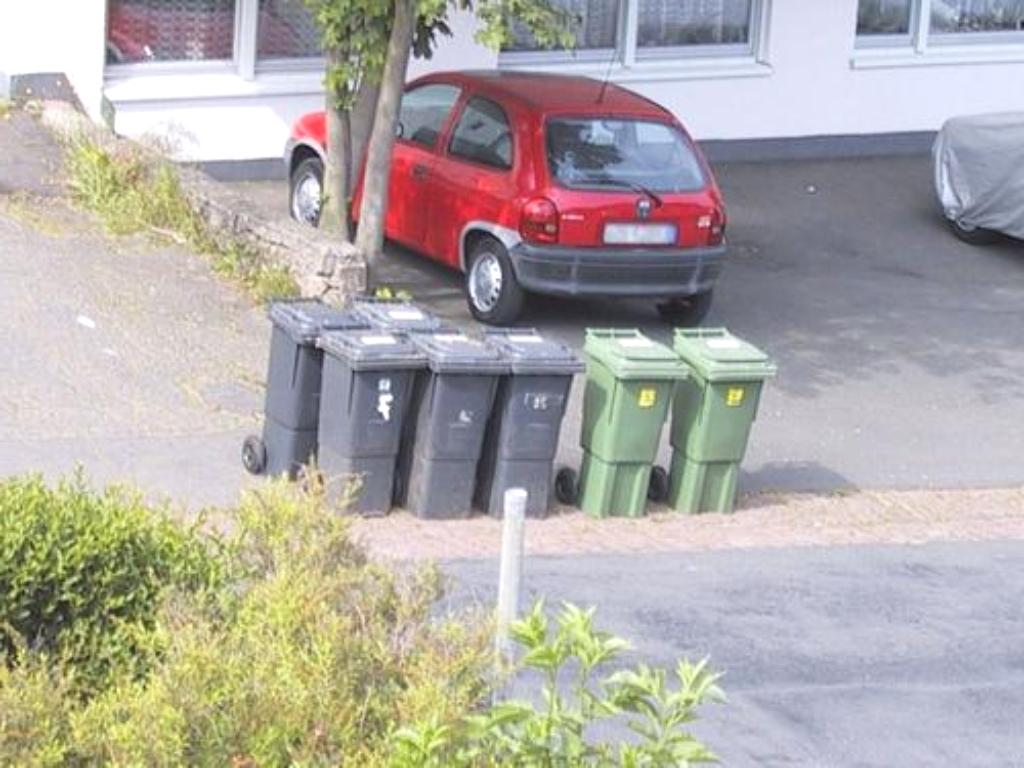dustbin: (316, 323, 580, 522), (578, 327, 746, 522)
